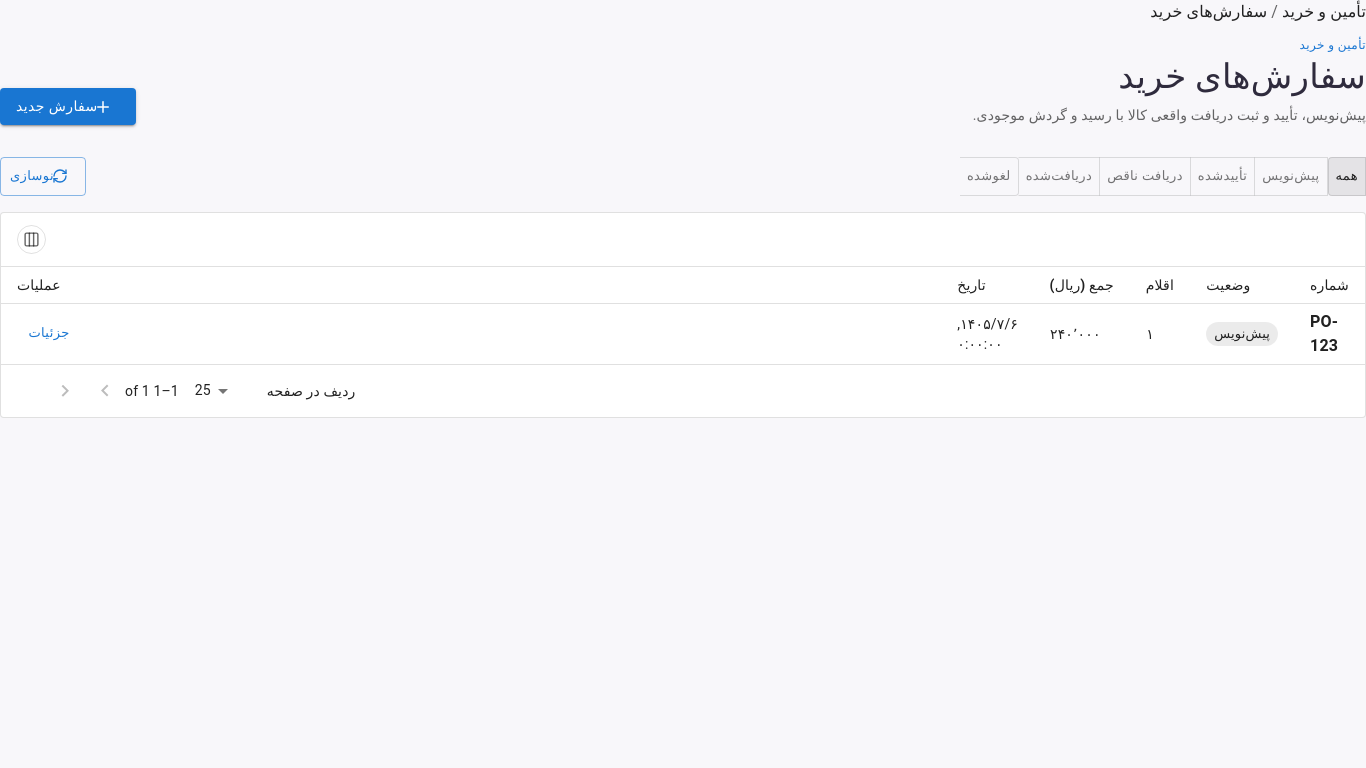
PurchaseOrdersView › lists the real API response and shows audited detail
The width and height of the screenshot is (1366, 768).
Expected: the text "PO-123" is shown, top-left (1310, 312), bottom-right (1338, 355)
What coordinates should you click on to do the following:
click the button "جزئیات"
I would click on:
 (49, 334)
Its box is top-left (17, 318), bottom-right (81, 349).
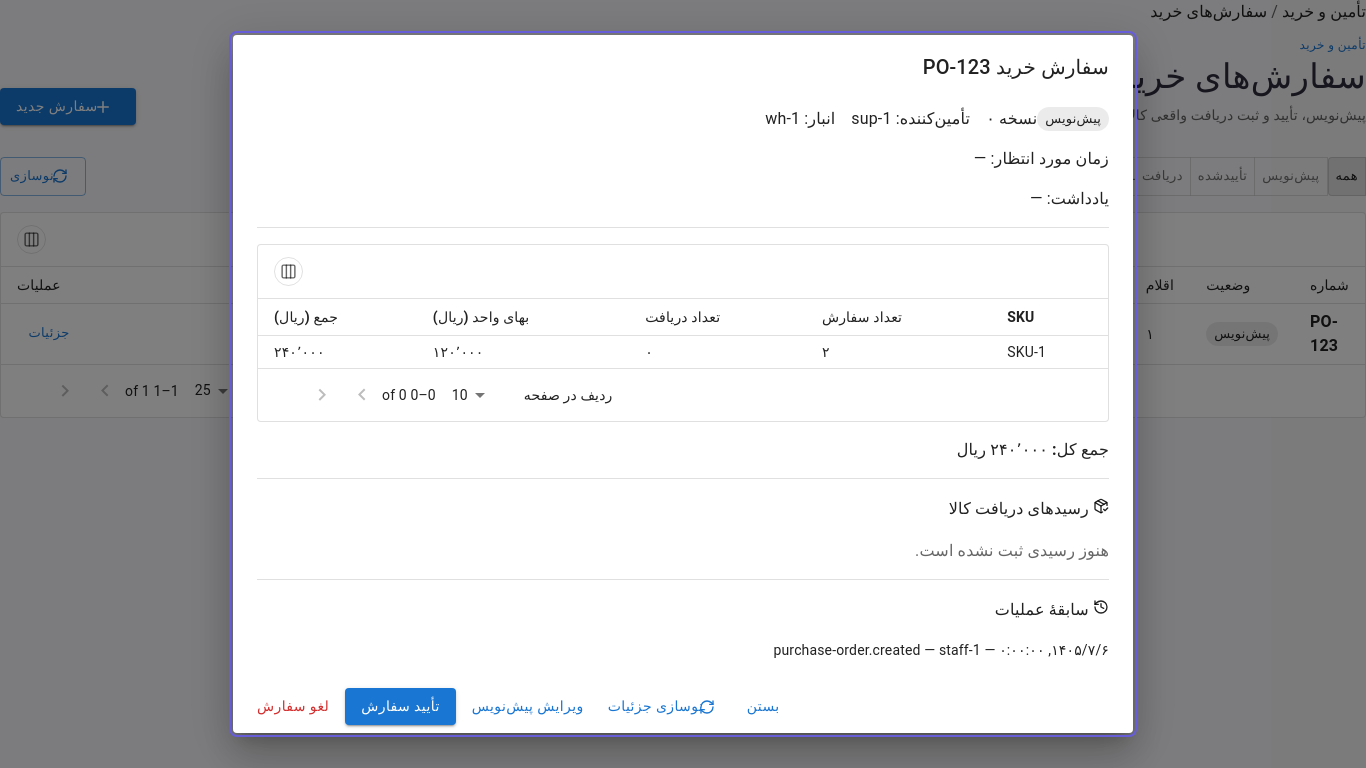
Expected: the text "۱۴۰۵/۷/۶, ۰:۰۰:۰۰ — purchase-order.created — staff-1" is shown, top-left (774, 642), bottom-right (1109, 658)
Expected: the button "تأیید سفارش" is shown, top-left (345, 688), bottom-right (456, 725)
